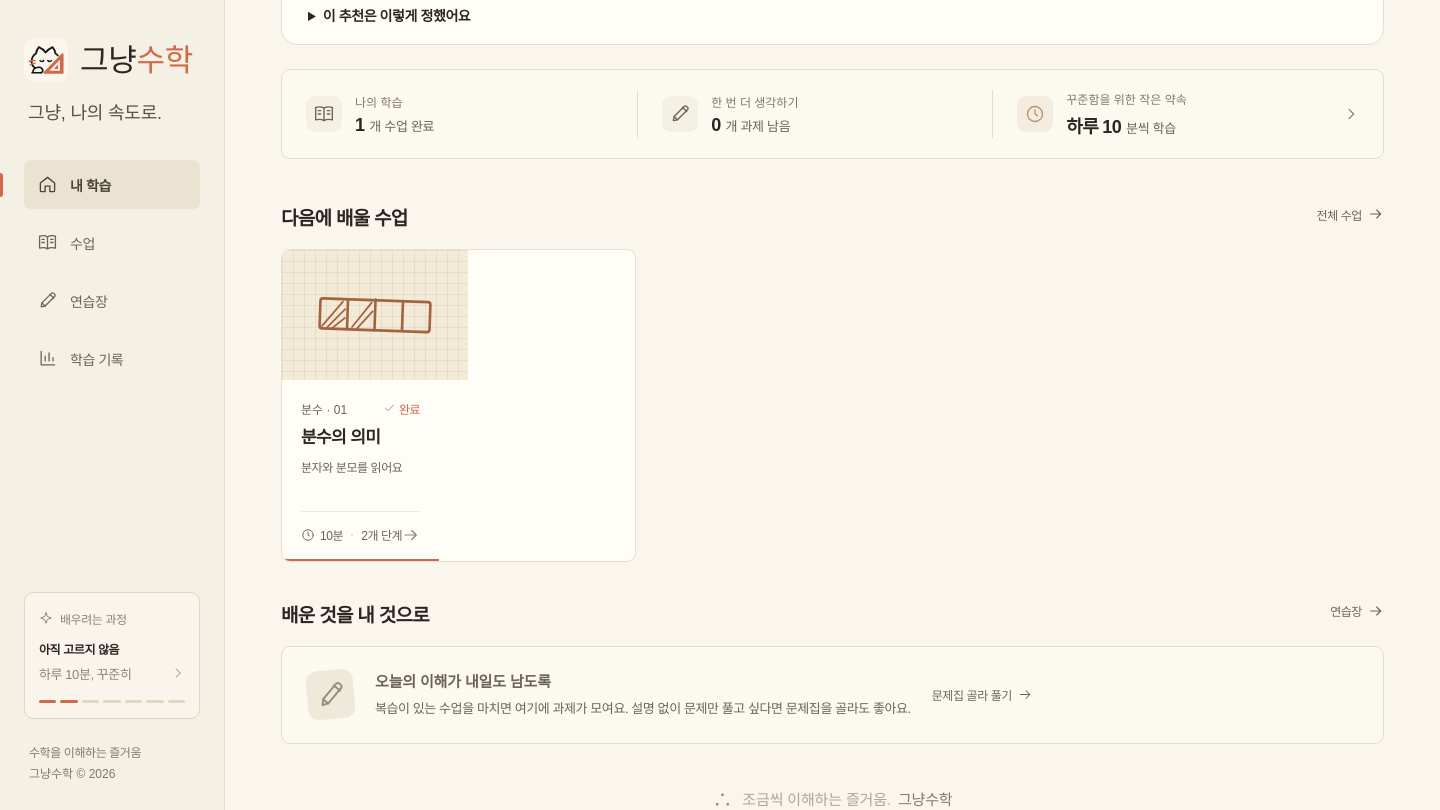
Scenario: a question the step cannot take yet › tells a finished lesson apart from a step waiting its turn
The width and height of the screenshot is (1440, 810).
(page scrolled)
Click the button "분수 · 01 완료 분수의 의미 분자와 분모를 읽어요 10분 2개 단계" at (375, 315), box [281,249,636,562]
Wait 1 ms
(page scrolled)
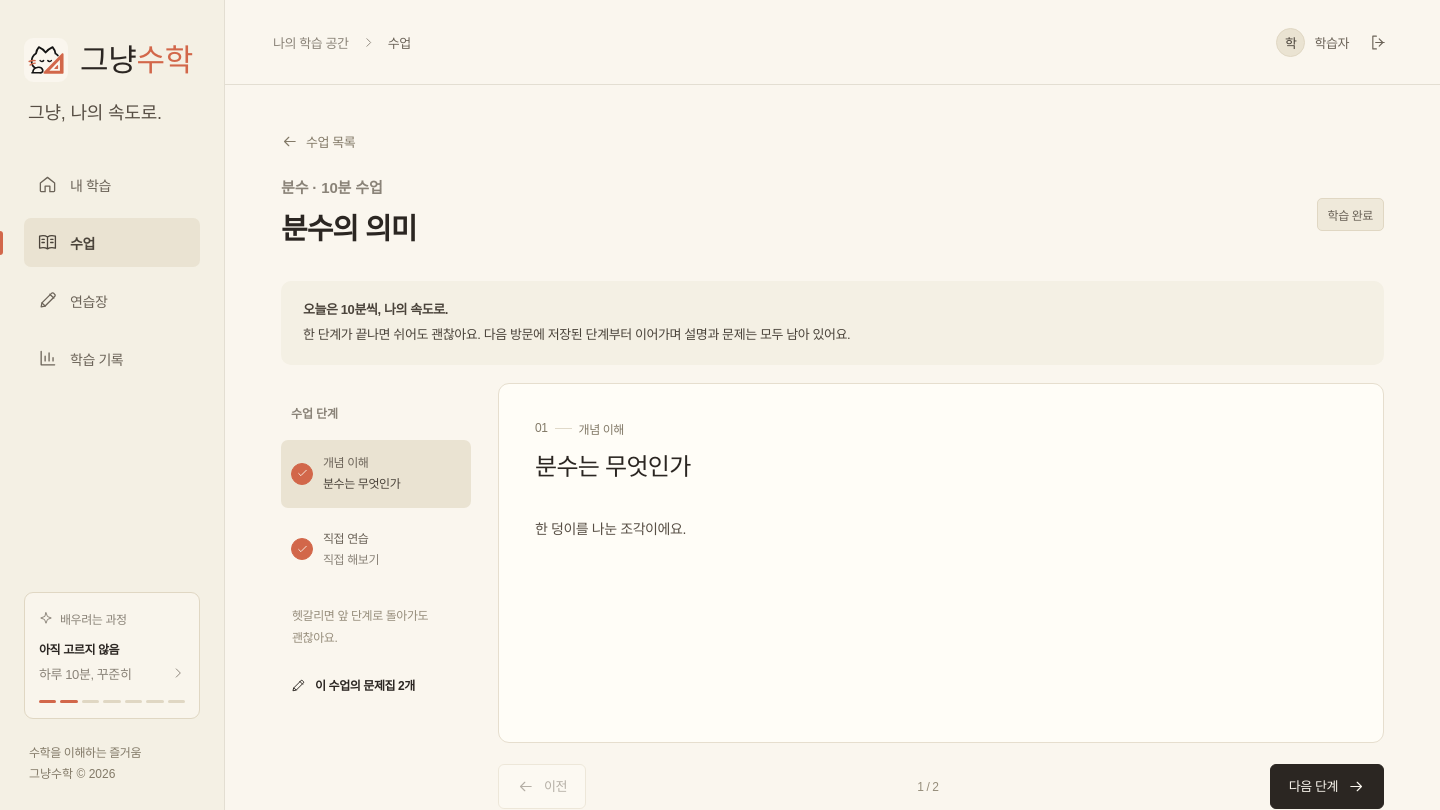
Now the heading "분수의 의미" is shown, box [281,206,416,252]
Click the button "직접 연습 직접 해보기" at (376, 549), box [281,516,471,583]
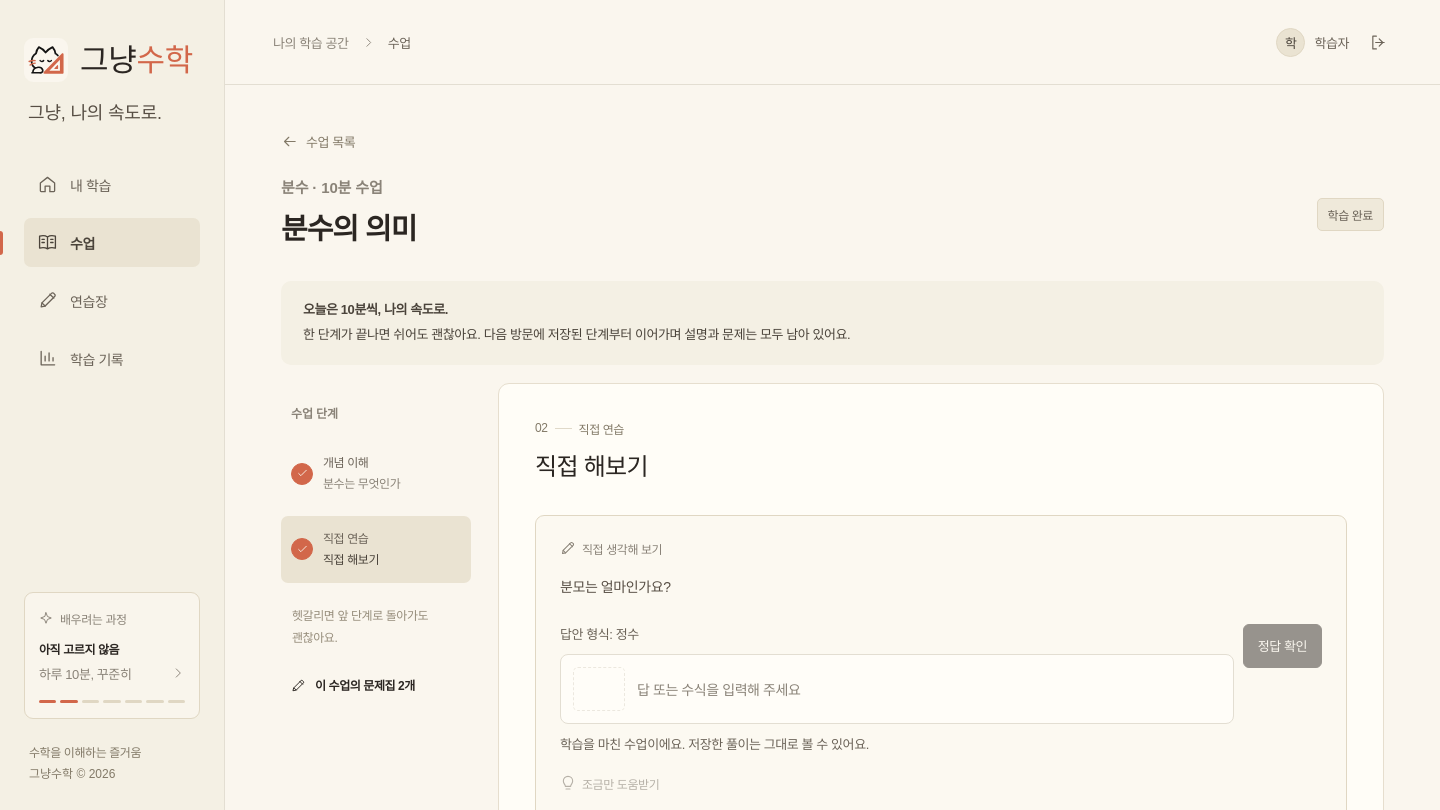
Now the text "학습을 마친 수업이에요. 저장한 풀이는 그대로 볼 수 있어요." is shown, box [560,738,869,752]
